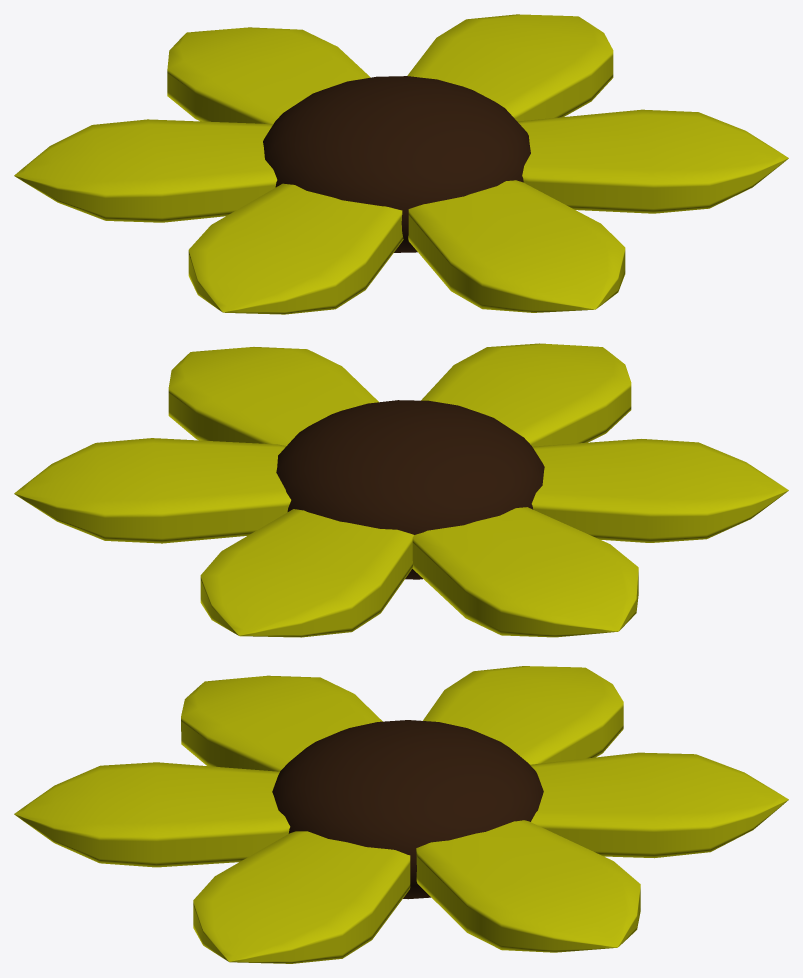
Rendered from Sunflower_Platform 2.fbx.
3 views of the same model, one above another, from view 1: azimuth 30°, elevation 25°; view 2: azimuth 150°, elevation 25°; view 3: azimuth 270°, elevation 25° (orthographic).
Visible parts, largest first — view 1: Sunflower_Platform; view 2: Sunflower_Platform; view 3: Sunflower_Platform.
Part boxes in pixels (<box>): Sunflower_Platform: <box>14,14,788,314</box>; Sunflower_Platform: <box>14,343,788,637</box>; Sunflower_Platform: <box>14,666,788,963</box>.
Size of the model in its own units: 2.06 by 0.4366 by 2.29.
